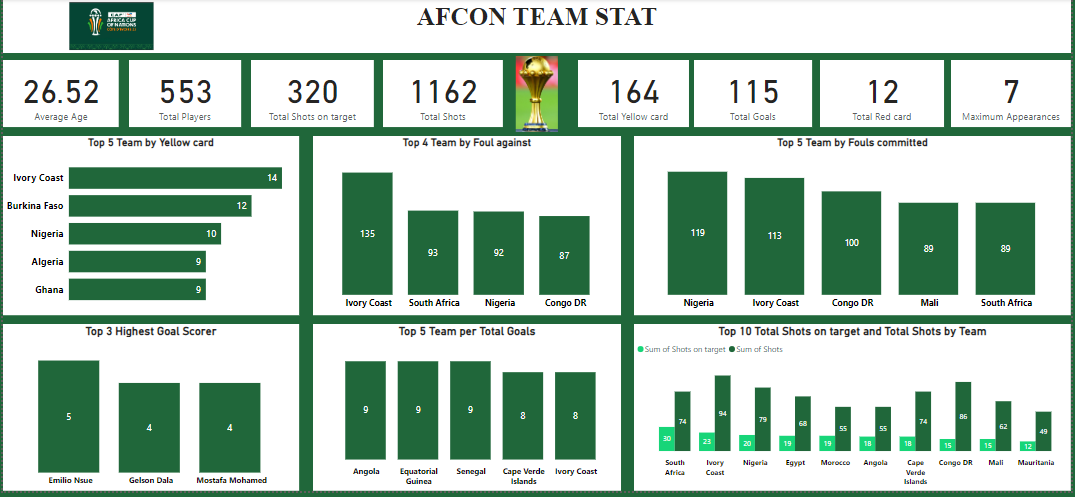

Layout of this report page (visuals, bound fields, positions):
{"tool":"powerbi","page":{"name":"Page 2","canvas":[1800,829],"ordinal":1},"visuals":[{"type":"textbox","box":[0,0,1799.5,91],"z":0},{"type":"card","fields":{"Values":["Player stats.Age"]},"box":[0,102.8,195.5,112.9],"z":1000},{"type":"card","fields":{"Values":["Player stats.Name"]},"box":[212.3,102.8,188.7,112.9],"z":2000},{"type":"clusteredColumnChart","title":"Top 3 Highest  Goal Scorer","fields":{"Category":["Player stats.Name"],"Y":["Player stats.Goals"]},"box":[0,547.6,498.7,281.4],"z":3000},{"type":"clusteredBarChart","title":"Top 5 Team by Yellow card ","fields":{"Category":["Player stats.Team"],"Y":["Player stats.Yellow card"]},"box":[0,230.8,498.7,301.6],"z":4000},{"type":"card","fields":{"Values":["Player stats.Yellow card"]},"box":[968.9,102.8,187,112.9],"z":5000},{"type":"card","fields":{"Values":["Player stats.Red card"]},"box":[1376.6,102.8,208.9,112.9],"z":6000},{"type":"image","box":[797,91,203.9,138.2],"z":7000},{"type":"clusteredColumnChart","title":"Top 10 Total Shots on target and Total Shots by Team","fields":{"Y":["Player stats.Shots on target","Player stats.Shots"],"Category":["Player stats.Team"]},"box":[1063.2,547.6,736.3,281.4],"z":8000},{"type":"clusteredColumnChart","title":"Top 5 Team per Total Goals","fields":{"Y":["Player stats.Goals"],"Category":["Player stats.Team"]},"box":[522.3,547.6,519,281.4],"z":9000},{"type":"card","fields":{"Values":["Player stats.Goals"]},"box":[1164.3,102.8,198.8,112.9],"z":10000},{"type":"clusteredColumnChart","title":"Top 5 Team by Fouls committed","fields":{"Category":["Player stats.Team"],"Y":["Player stats.Foul committed"]},"box":[1063.2,230.8,736.3,301.6],"z":11000},{"type":"clusteredColumnChart","title":"Top 4 Team by Foul against","fields":{"Y":["Player stats.Foul against"],"Category":["Player stats.Team"]},"box":[522.3,230.8,519,301.6],"z":12000},{"type":"card","fields":{"Values":["Player stats.Shots on target"]},"box":[417.9,102.8,207.2,112.9],"z":13000},{"type":"card","fields":{"Values":["Player stats.Shots"]},"box":[640.3,102.8,202.2,112.9],"z":14000},{"type":"card","fields":{"Values":["Player stats.Appearances"]},"box":[1597.3,102.8,202.2,112.9],"z":15000},{"type":"image","box":[97.7,0,170.2,91],"z":16000}]}

Visuals, with their boxes in screenshot pixels (x1, y1, x2, y2), scaled from the page's 1800x829 canvas onto the 1075x497 screenshot:
textbox: locate(0, 0, 1074, 55)
card - Player stats.Age: locate(0, 62, 117, 129)
card - Player stats.Name: locate(127, 62, 239, 129)
"Top 3 Highest  Goal Scorer" clusteredColumnChart: locate(0, 328, 298, 496)
"Top 5 Team by Yellow card " clusteredBarChart: locate(0, 138, 298, 319)
card - Player stats.Yellow card: locate(579, 62, 690, 129)
card - Player stats.Red card: locate(822, 62, 947, 129)
image: locate(476, 55, 598, 137)
"Top 10 Total Shots on target and Total Shots by Team" clusteredColumnChart: locate(635, 328, 1074, 496)
"Top 5 Team per Total Goals" clusteredColumnChart: locate(312, 328, 622, 496)
card - Player stats.Goals: locate(695, 62, 814, 129)
"Top 5 Team by Fouls committed" clusteredColumnChart: locate(635, 138, 1074, 319)
"Top 4 Team by Foul against" clusteredColumnChart: locate(312, 138, 622, 319)
card - Player stats.Shots on target: locate(250, 62, 373, 129)
card - Player stats.Shots: locate(382, 62, 503, 129)
card - Player stats.Appearances: locate(954, 62, 1074, 129)
image: locate(58, 0, 160, 55)
